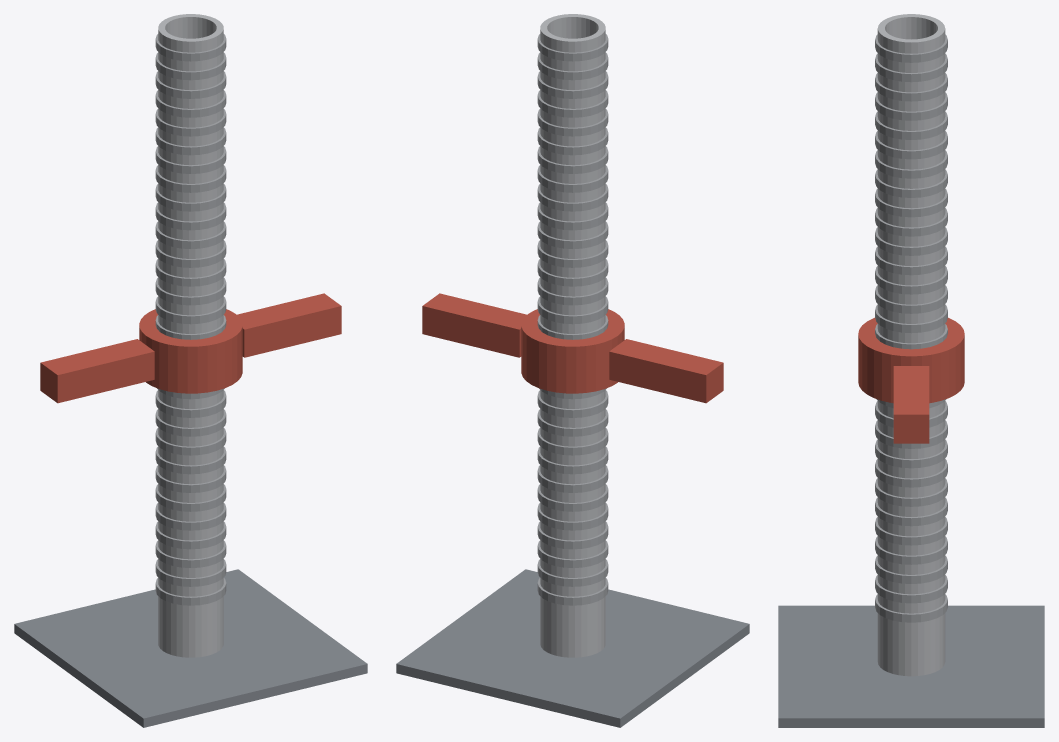
The model's file is base_jack_400.glb.
The picture shows the model from 3 angles, left to right: view 1: azimuth 30°, elevation 25°; view 2: azimuth 150°, elevation 25°; view 3: azimuth 270°, elevation 25°; orthographic projection. The views are drawn at different scales.
Visible parts, largest first — view 1: base_jack_400; view 2: base_jack_400; view 3: base_jack_400.
Boxes of the visible parts, <box> form: base_jack_400: <box>14,14,367,727</box>; base_jack_400: <box>396,14,749,727</box>; base_jack_400: <box>778,14,1044,727</box>.
Bounding box in the file's own units: 0.19 × 0.4 × 0.15.
